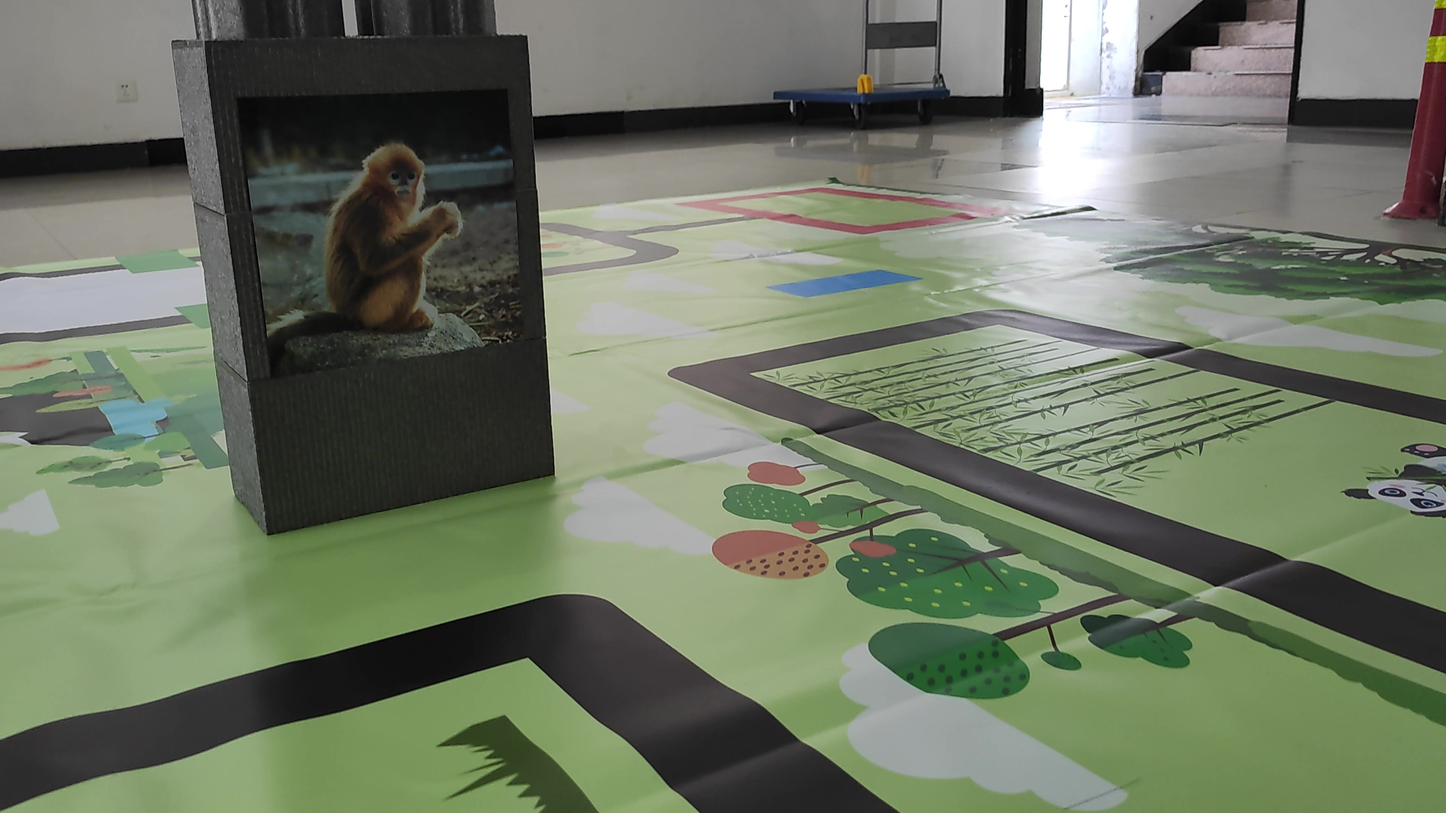monkey: (268, 129, 494, 370)
